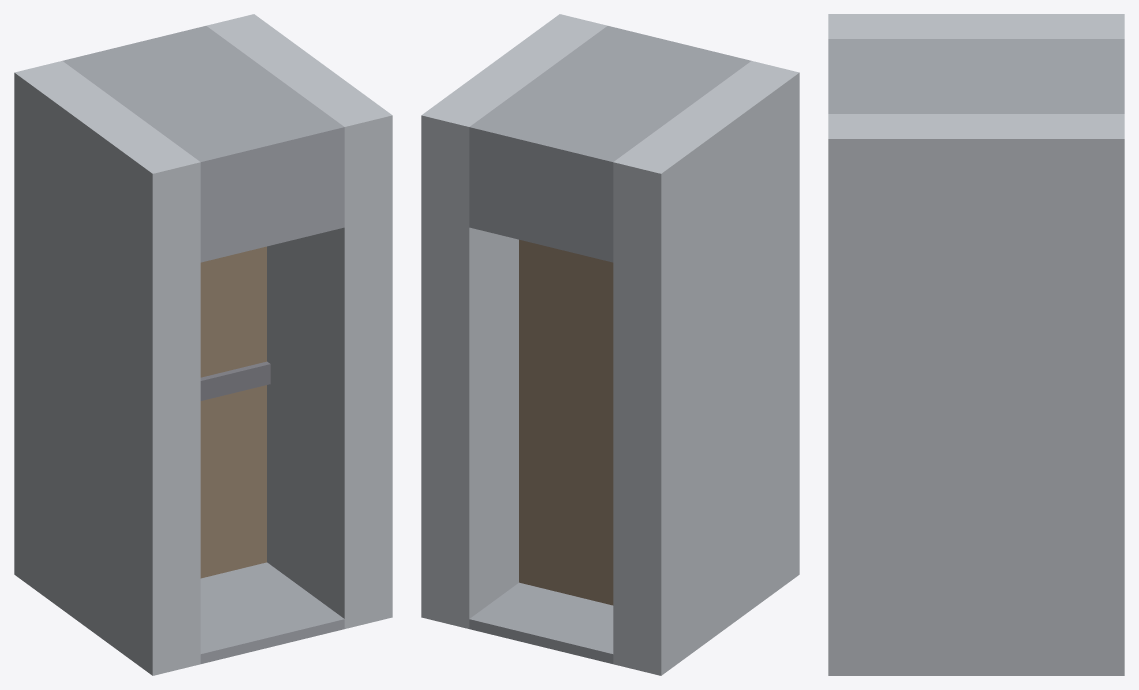
Rendered from gate.glb.
3 renders of one model, left to right at view 1: azimuth 30°, elevation 25°; view 2: azimuth 150°, elevation 25°; view 3: azimuth 270°, elevation 25°, orthographic. The views are drawn at different scales.
Visible parts, largest first — view 1: gate post 1, gate post 2, gate lintel, gate doors, gate sill, gate bar; view 2: gate post 1, gate post 2, gate lintel, gate doors, gate sill; view 3: gate post 2, gate lintel, gate post 1.
Part boxes in pixels (x1,y1,x2,y2): gate post 1: (14, 61, 200, 675); gate post 2: (206, 14, 392, 628); gate lintel: (62, 26, 344, 262); gate doors: (200, 246, 266, 578); gate sill: (200, 562, 344, 663); gate bar: (200, 361, 270, 400); gate post 1: (613, 61, 799, 675); gate post 2: (421, 14, 607, 628); gate lintel: (469, 26, 751, 262); gate doors: (519, 239, 613, 605); gate sill: (469, 582, 613, 663); gate post 2: (828, 114, 1124, 675); gate lintel: (828, 39, 1124, 113); gate post 1: (828, 14, 1124, 38).
Bounding box in the file's own units: 1 × 2 × 1.
